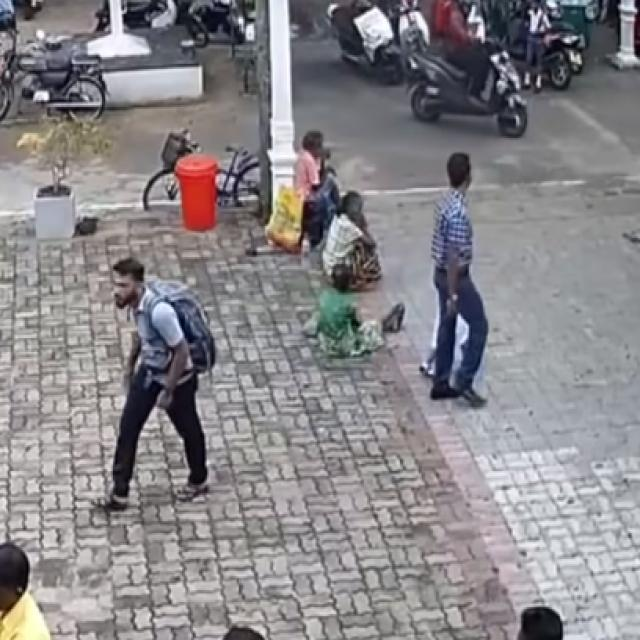adult: (95, 244, 216, 510), (425, 148, 494, 410), (312, 262, 403, 368), (421, 0, 513, 98), (287, 127, 356, 240), (314, 186, 380, 288), (0, 529, 53, 640)
child: (516, 0, 559, 91)
